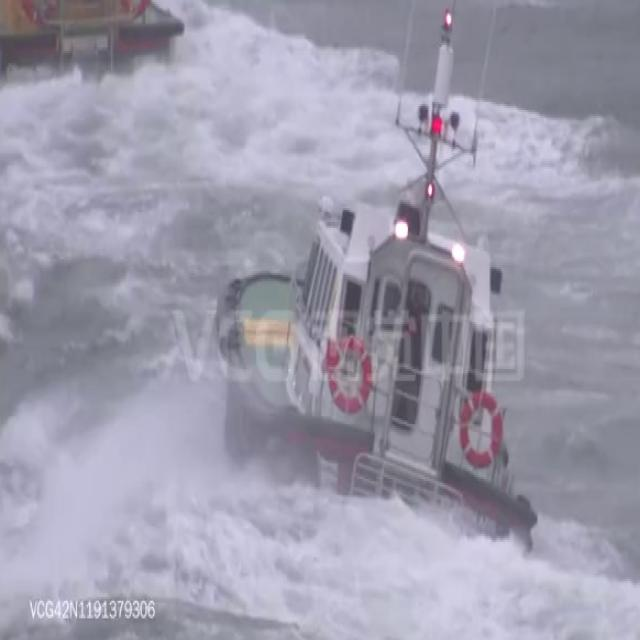houseboat: (212, 13, 542, 567), (0, 0, 189, 92)
